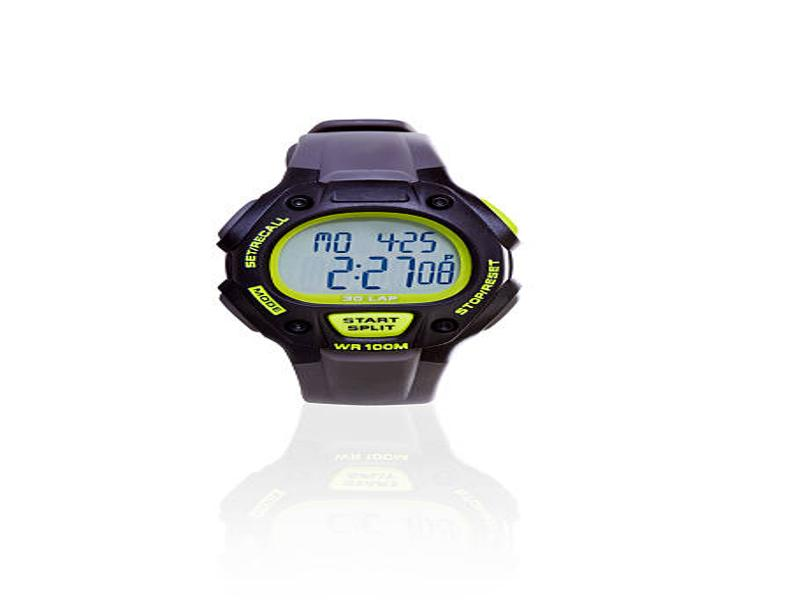watch: (219, 108, 524, 409)
